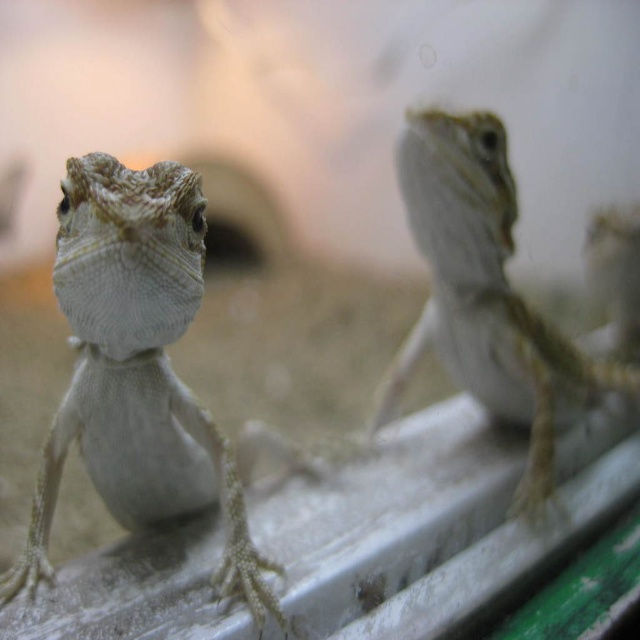Lizard: (0, 153, 329, 639), (335, 110, 640, 540)
